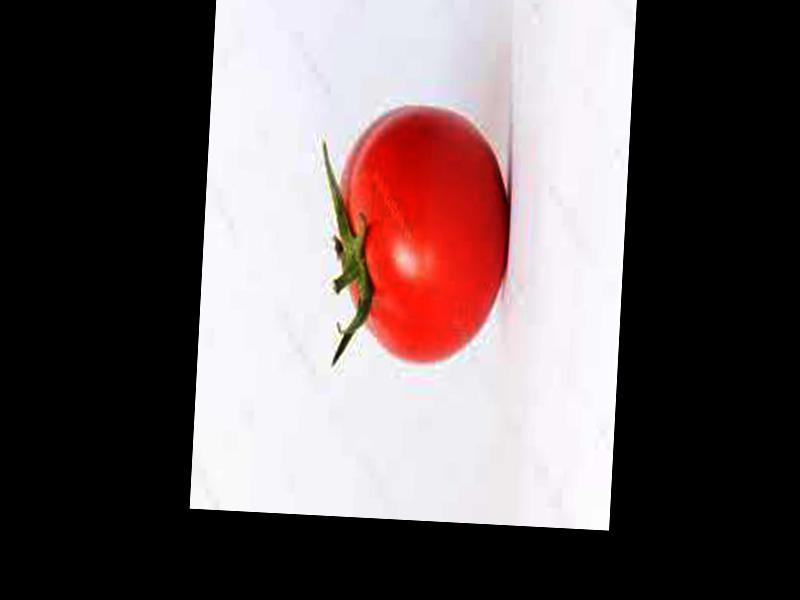Tomato: (333, 99, 516, 366)
